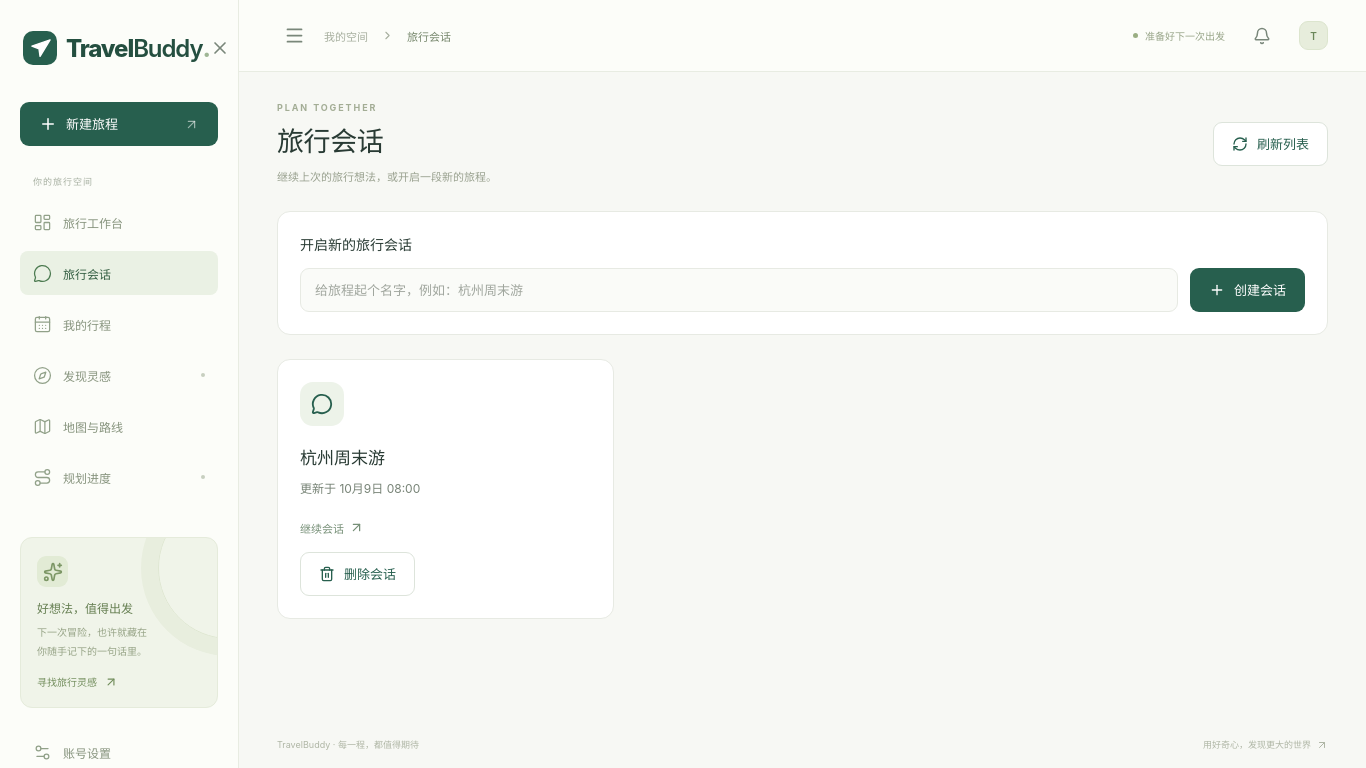
旅行会话 › 会话列表支持创建、查看详情，所有请求携带当前用户令牌
The image size is (1366, 768).
Check: the heading "杭州周末游" is shown, box left=300, top=444, right=385, bottom=469
Type "新旅行" into the field labelled "开启新的旅行会话" at (739, 290), box left=300, top=268, right=1178, bottom=312
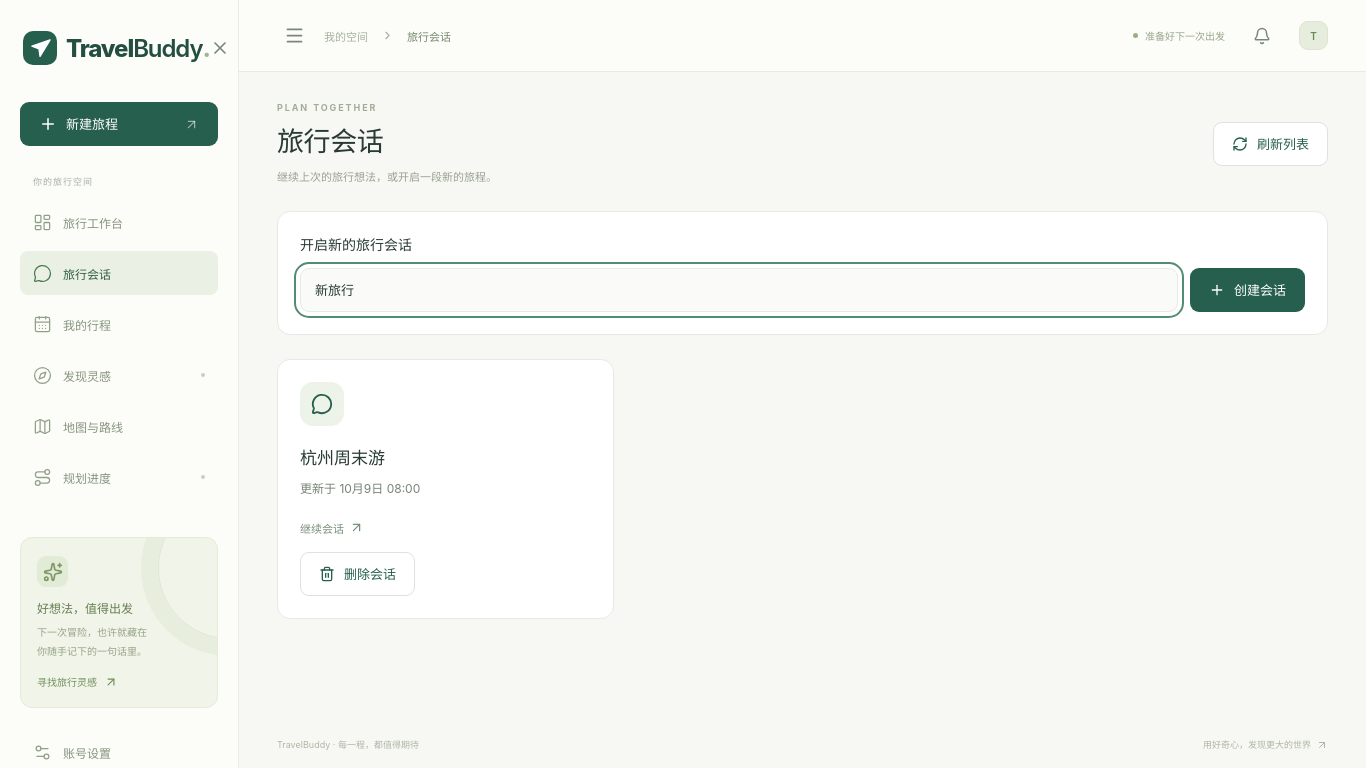
Click the button "创建会话" at (1248, 290), box left=1190, top=268, right=1305, bottom=312
(page scrolled)
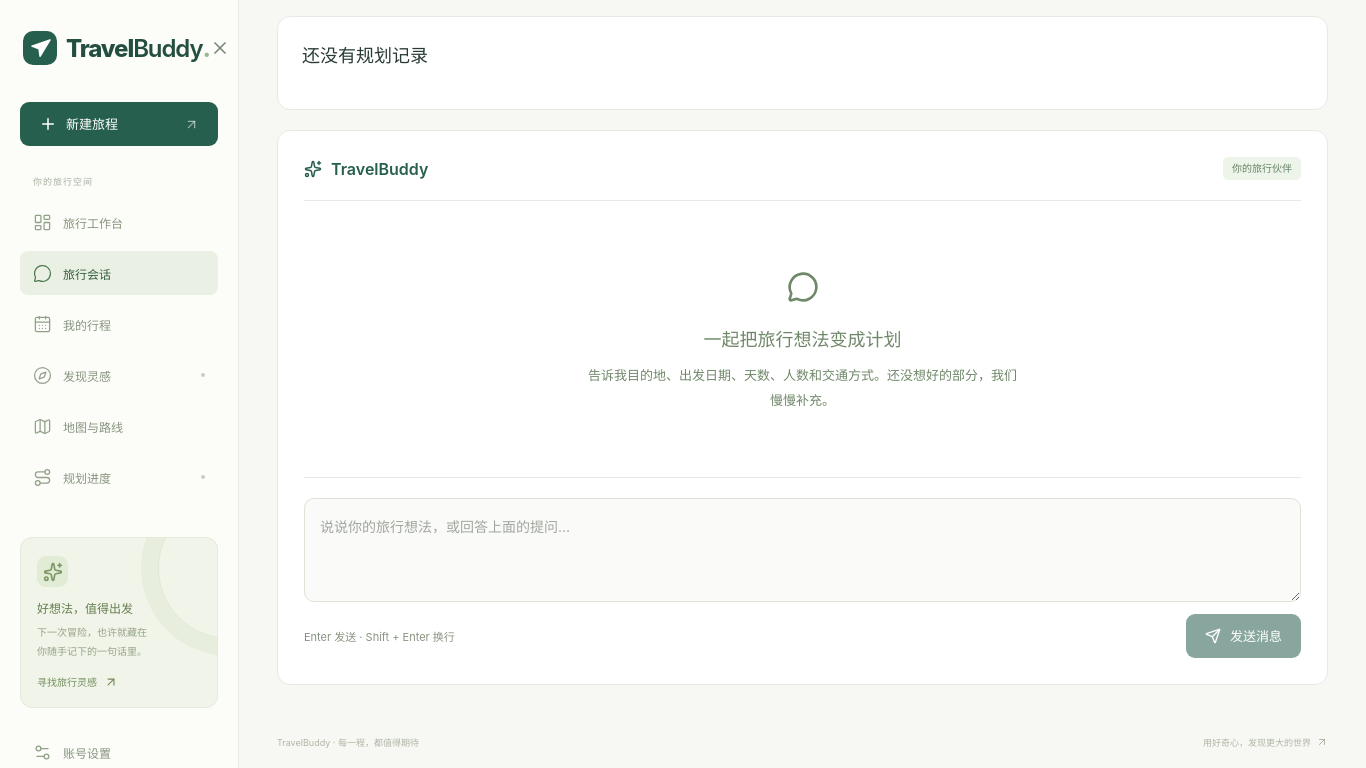
Check: the text box named "发送旅行消息" is enabled, box left=304, top=498, right=1301, bottom=602
